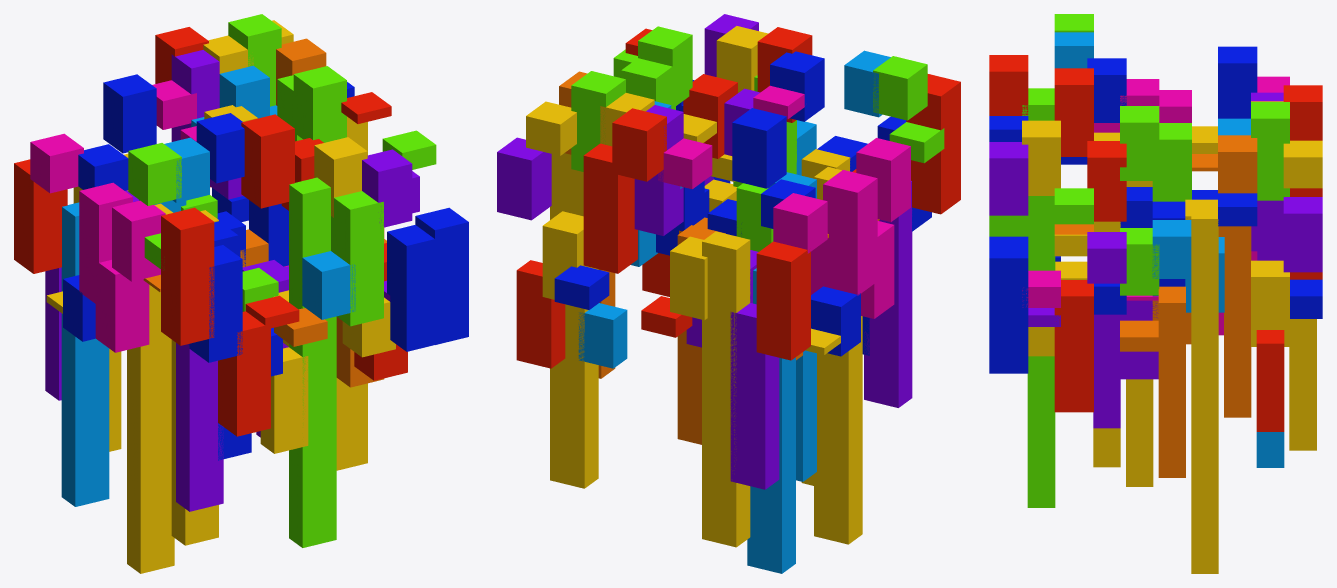
Rendered from ToyBlock-111.glb.
The picture shows the model from 3 angles, left to right: view 1: azimuth 30°, elevation 25°; view 2: azimuth 150°, elevation 25°; view 3: azimuth 270°, elevation 25°; orthographic projection. The views are drawn at different scales.
Visible parts, largest first — view 1: Cube.051, Cube.014, Cube.018, Cube.011, Cube, Cube.080, Cube.060, Cube.020, Cube.009, Cube.090, Cube.042, Cube.004 (+41 smaller); view 2: Cube.029, Cube.014, Cube.096, Cube.019, Cube.011, Cube.018, Cube.005, Cube.009, Cube.069, Cube, Cube.098, Cube.027 (+44 smaller); view 3: Cube.096, Cube.051, Cube.095, Cube.090, Cube.047, Cube.082, Cube.029, Cube.042, Cube.078, Cube.014, Cube.053, Cube.099 (+47 smaller).
Part boxes in pixels (x1,y1,x2,y2): Cube.051: (289,177,336,547); Cube.014: (127,203,174,573); Cube.018: (61,202,109,506); Cube.011: (176,343,223,511); Cube: (161,207,214,345); Cube.080: (387,225,440,351); Cube.060: (331,191,383,326); Cube.020: (218,311,270,436); Cube.009: (14,159,67,273); Cube.090: (415,207,468,344); Cube.042: (241,114,294,208); Cube.004: (95,260,149,352); Cube.029: (702,231,750,547); Cube.014: (814,167,862,544); Cube.096: (550,153,598,488); Cube.019: (730,303,779,489); Cube.011: (864,181,912,407); Cube.018: (747,268,795,573); Cube.005: (823,170,877,295); Cube.009: (756,241,810,360); Cube.069: (583,143,637,273); Cube: (906,74,960,214); Cube.098: (516,260,565,368); Cube.027: (732,108,786,188); Cube.096: (1191,202,1218,573); Cube.051: (1027,196,1055,507); Cube.095: (1158,286,1185,477); Cube.090: (989,241,1028,373); Cube.047: (1224,226,1251,417); Cube.082: (1054,280,1093,412); Cube.029: (1289,319,1316,450); Cube.042: (1054,68,1093,156); Cube.078: (1251,102,1289,200); Cube.014: (1126,181,1153,486); Cube.053: (1093,314,1120,428); Cube.099: (1283,197,1322,272).
Size of the model in its own units: 51 by 76.13 by 51.
Materials: 8 (8 with a texture image).
